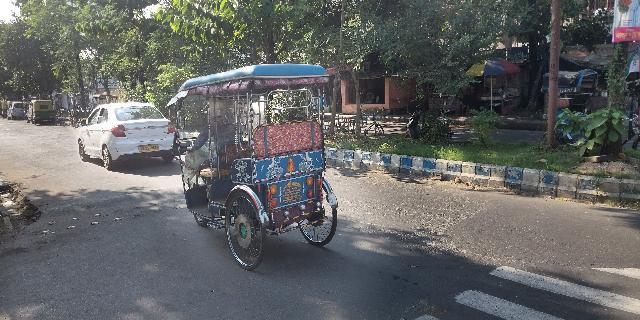Autorickshaw: (24, 97, 59, 126)
Car: (73, 102, 179, 168)
Rickshaw: (167, 67, 348, 271)
